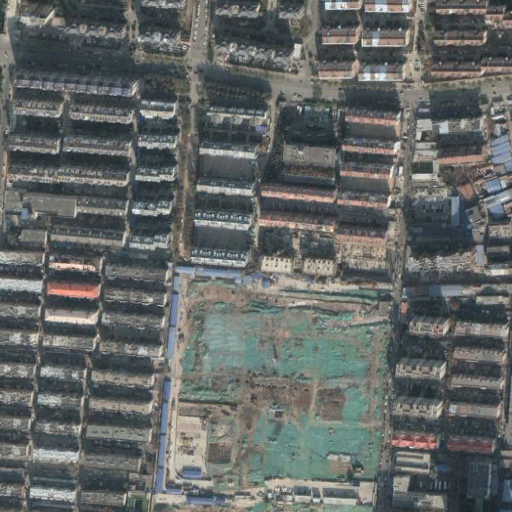cw: (166, 284, 385, 512)
